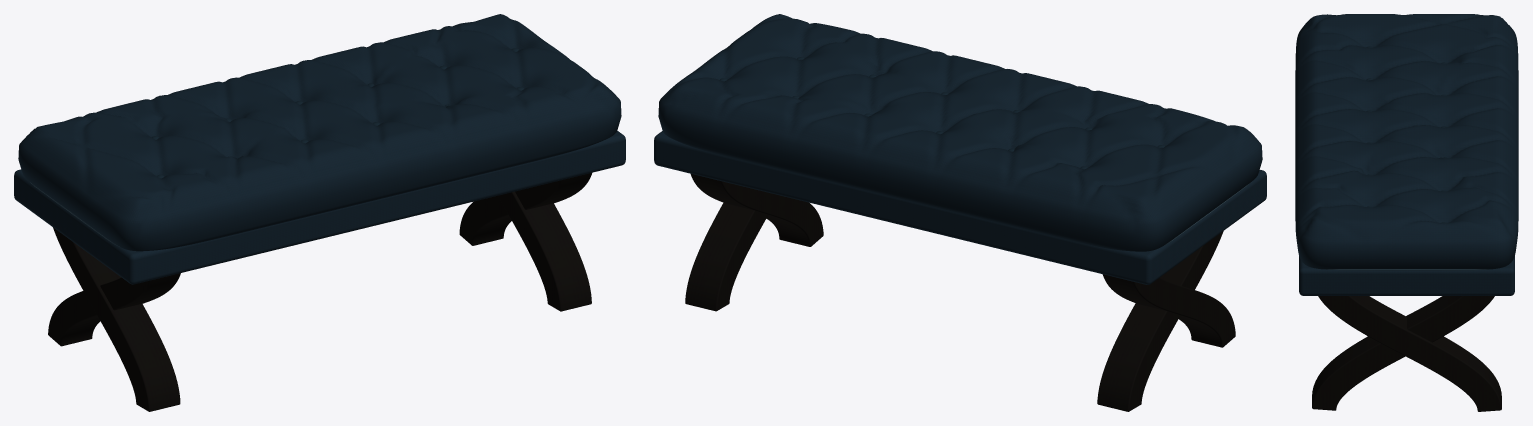
The model's file is christopher-knight-scarlett-bench.glb.
3 renders of one model, left to right at view 1: azimuth 30°, elevation 25°; view 2: azimuth 150°, elevation 25°; view 3: azimuth 270°, elevation 25°, orthographic. The views are drawn at different scales.
Parts seen in each view (by area): view 1: Deep diamond tufted bench seat, Upholstered bench apron, Curved crossed birch leg, Curved crossed birch leg.002, Curved crossed birch leg.001, Curved crossed birch leg.003; view 2: Deep diamond tufted bench seat, Upholstered bench apron, Curved crossed birch leg.001, Curved crossed birch leg.003, Curved crossed birch leg, Curved crossed birch leg.002; view 3: Deep diamond tufted bench seat, Curved crossed birch leg.003, Upholstered bench apron, Curved crossed birch leg.002, Bench lower piping.
Boxes of the visible parts, box(x1,y1,x2,y2) form: Deep diamond tufted bench seat: box(18, 14, 621, 251); Upholstered bench apron: box(14, 131, 625, 284); Curved crossed birch leg: box(53, 227, 180, 411); Curved crossed birch leg.002: box(498, 191, 591, 311); Curved crossed birch leg.001: box(48, 273, 180, 346); Curved crossed birch leg.003: box(459, 173, 591, 245); Deep diamond tufted bench seat: box(658, 14, 1262, 251); Upholstered bench apron: box(654, 131, 1266, 284); Curved crossed birch leg.001: box(1097, 231, 1223, 411); Curved crossed birch leg.003: box(685, 202, 767, 311); Curved crossed birch leg: box(1102, 274, 1235, 347); Curved crossed birch leg.002: box(690, 174, 823, 246); Deep diamond tufted bench seat: box(1295, 14, 1518, 269); Curved crossed birch leg.003: box(1318, 296, 1501, 411); Upholstered bench apron: box(1299, 256, 1514, 295); Curved crossed birch leg.002: box(1312, 296, 1494, 410); Bench lower piping: box(1325, 269, 1488, 270).
Size of the model in its own units: 1.04 by 0.4255 by 0.4384.
Materials: 3 (2 with a texture image).
